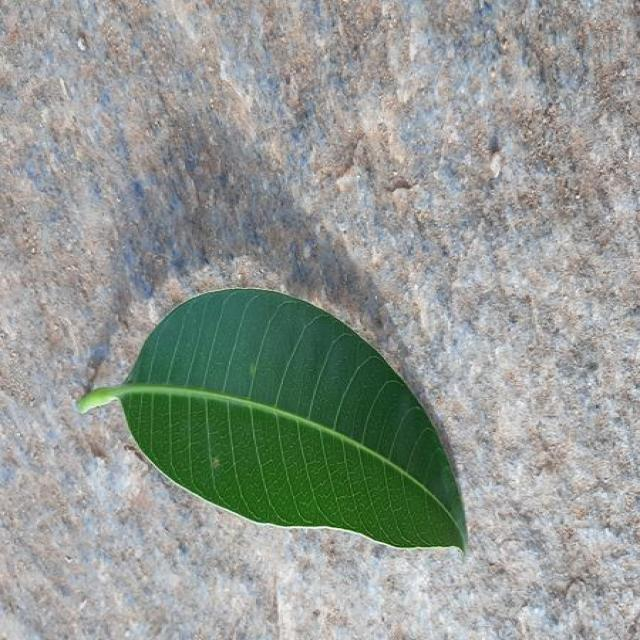mango: (80, 290, 463, 548)
